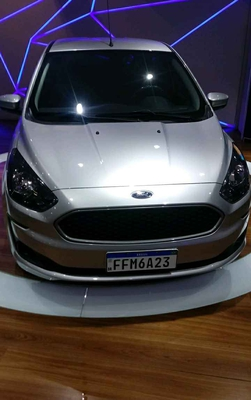Frontal Veiculo: (1, 44, 251, 285)
